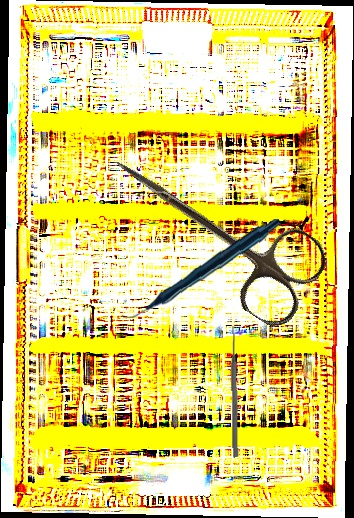Handpiece: (120, 211, 282, 326)
Iris Scissors: (87, 125, 336, 335)
Pusher: (229, 324, 240, 458)
